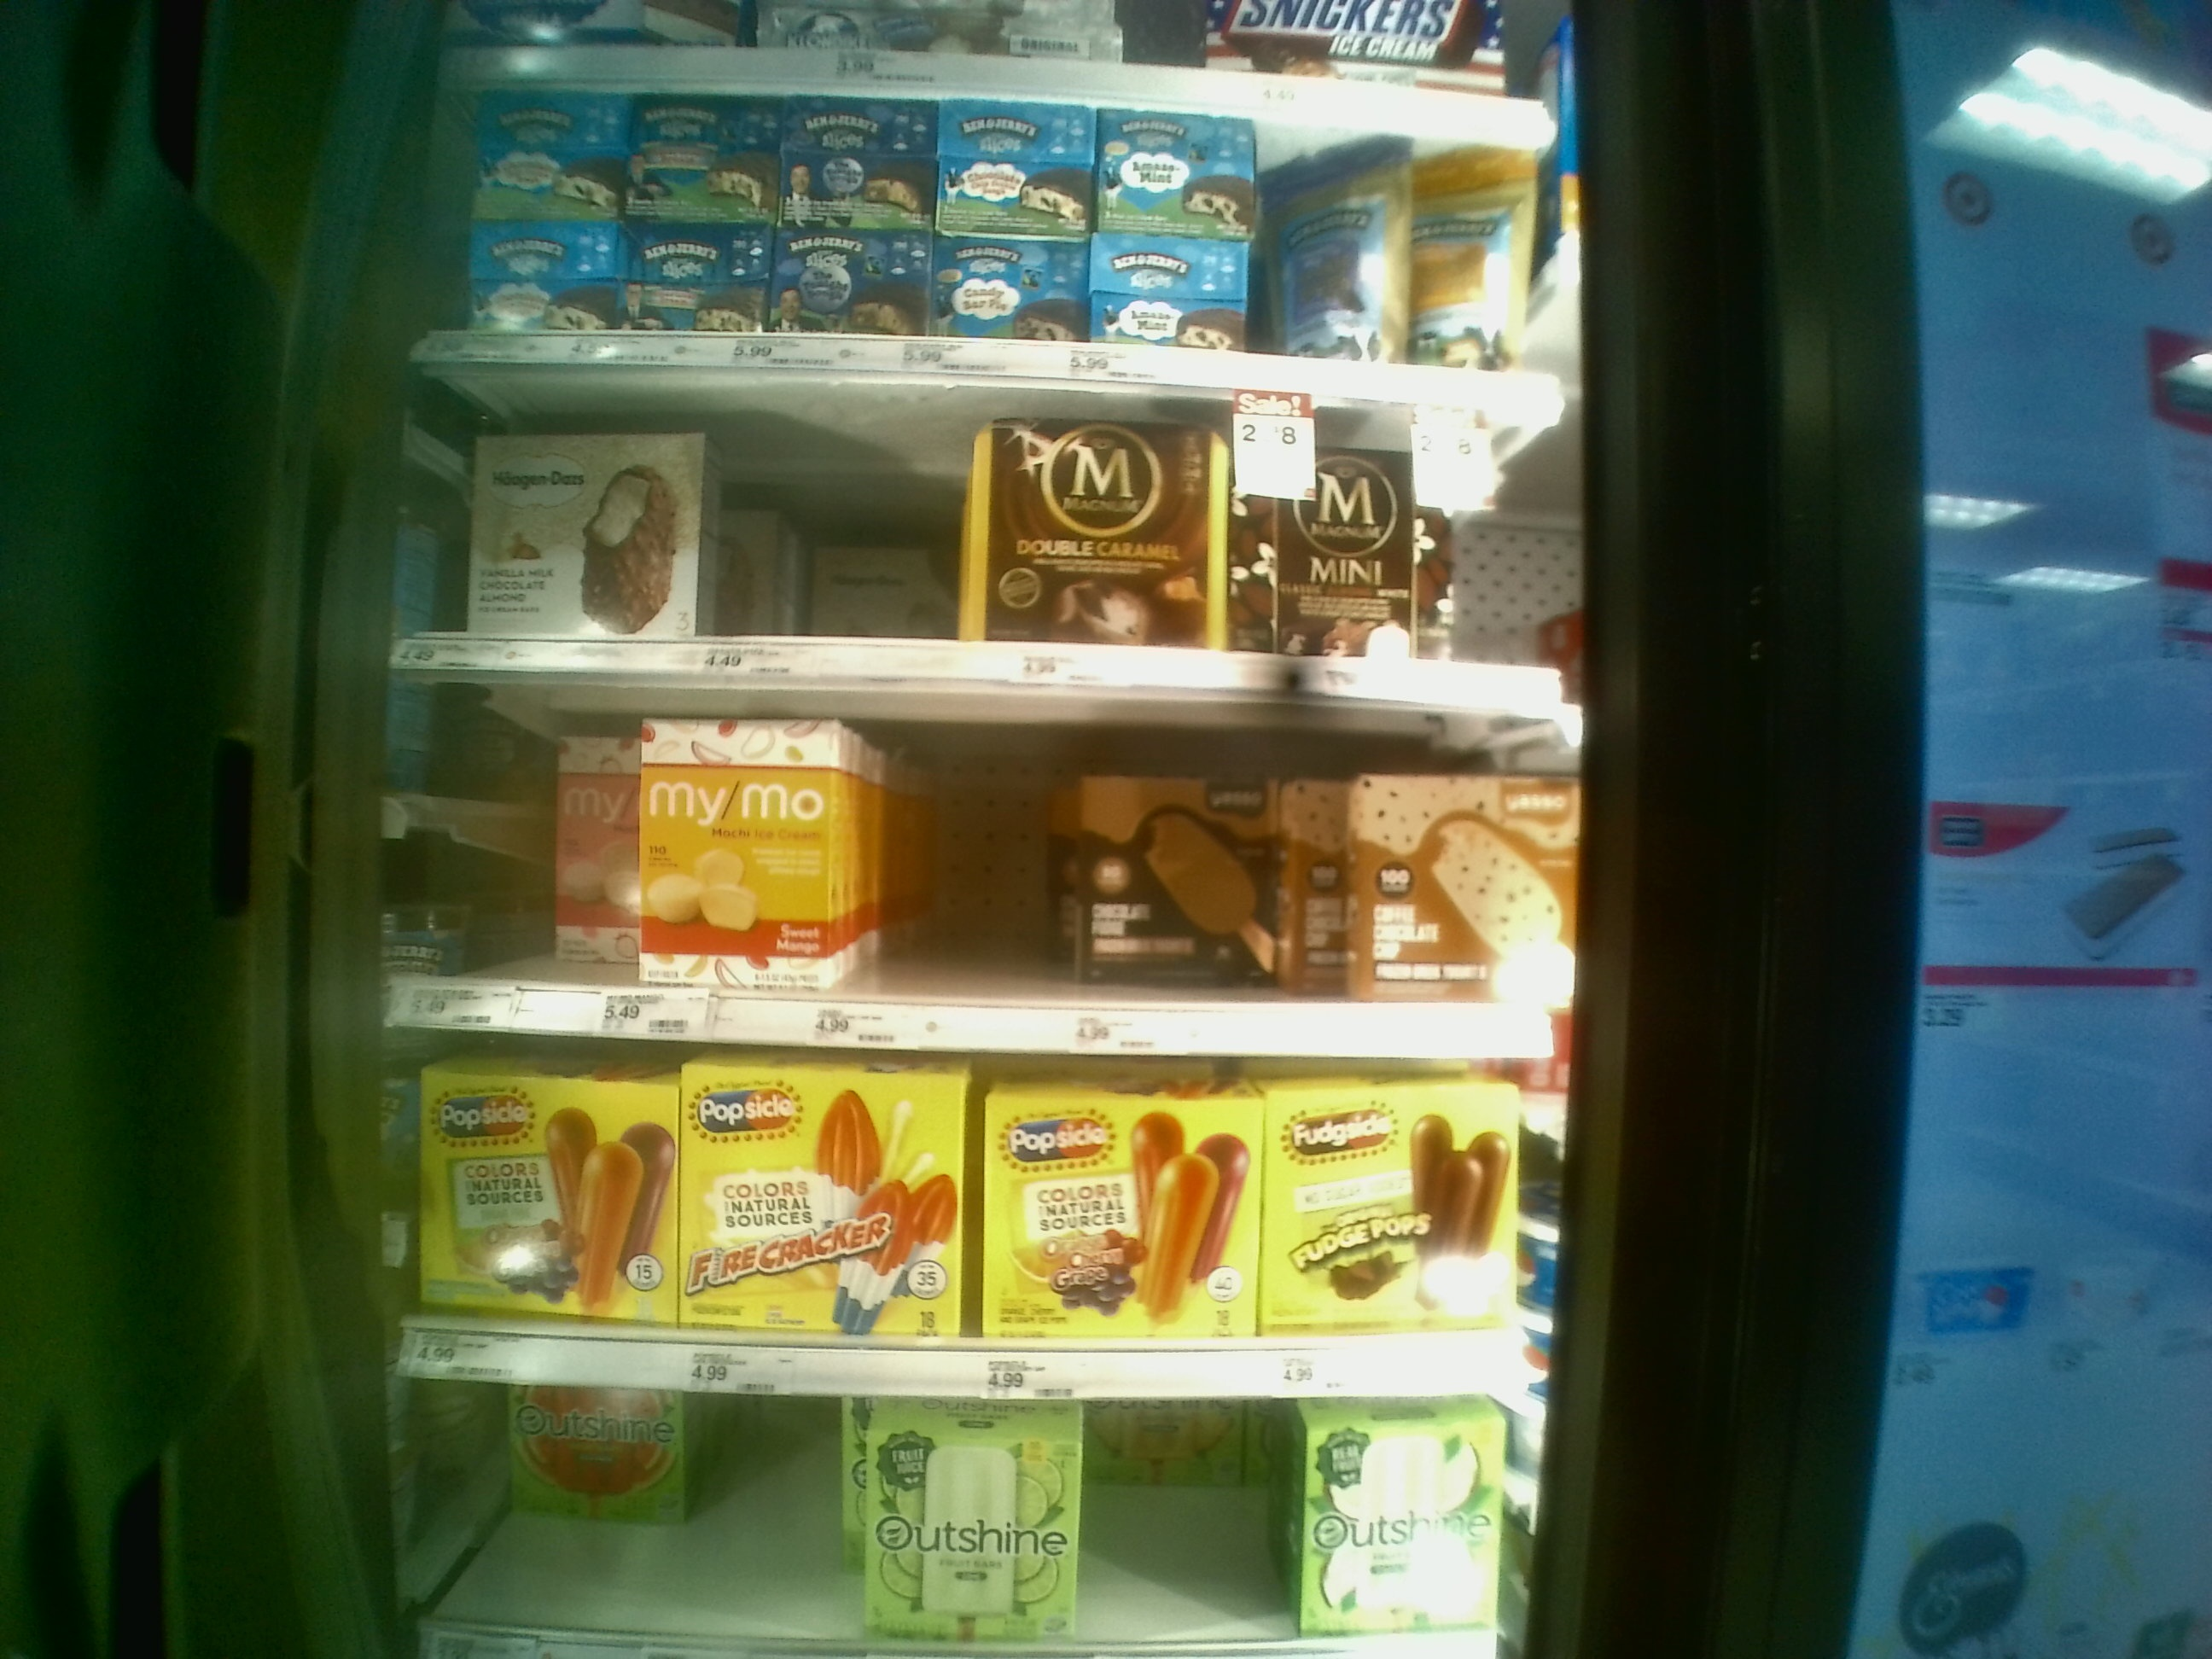ice-cream-shelf: (364, 673, 1571, 1040), (380, 1042, 1545, 1399), (388, 364, 1564, 687)
